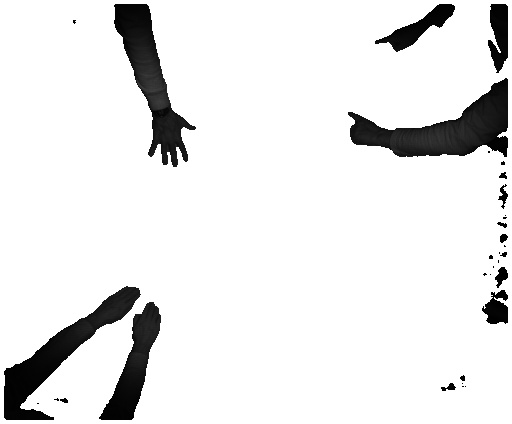hand: (147, 115, 199, 167), (93, 280, 143, 328), (133, 302, 167, 350), (368, 26, 421, 55), (344, 112, 381, 151)
